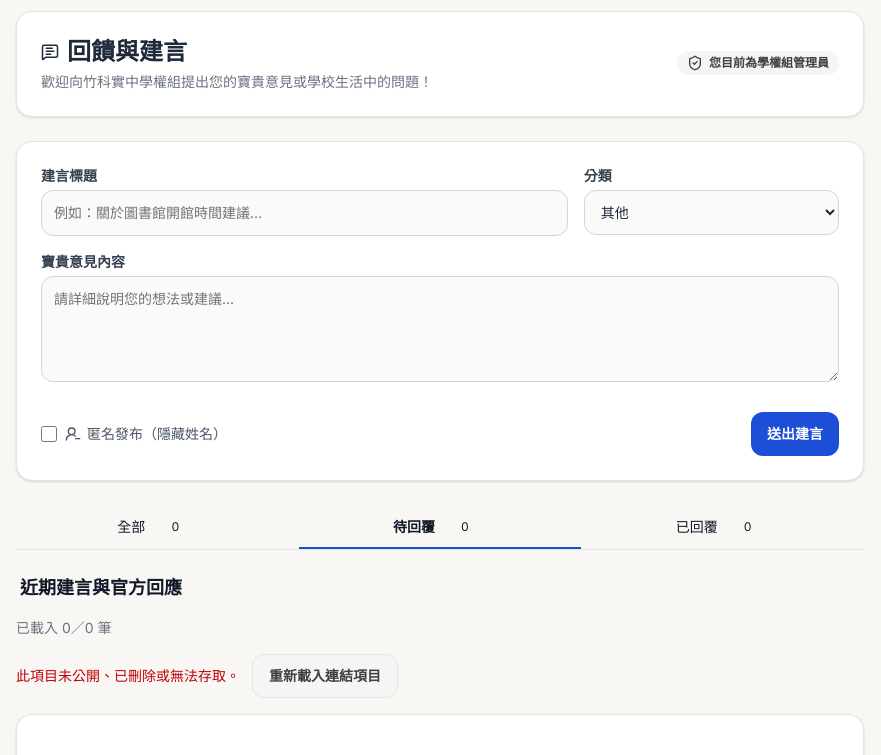
it: keeps the linked-message behavior when search navigation and 已回覆 both have no rows
This screenshot has width=881, height=755.
Expected: the message "此項目未公開、已刪除或無法存取。" is shown, 16,666 -> 240,686
Click the tab "已回覆 0".
click(697, 526)  # box 581,505 -> 864,549
(page scrolled)
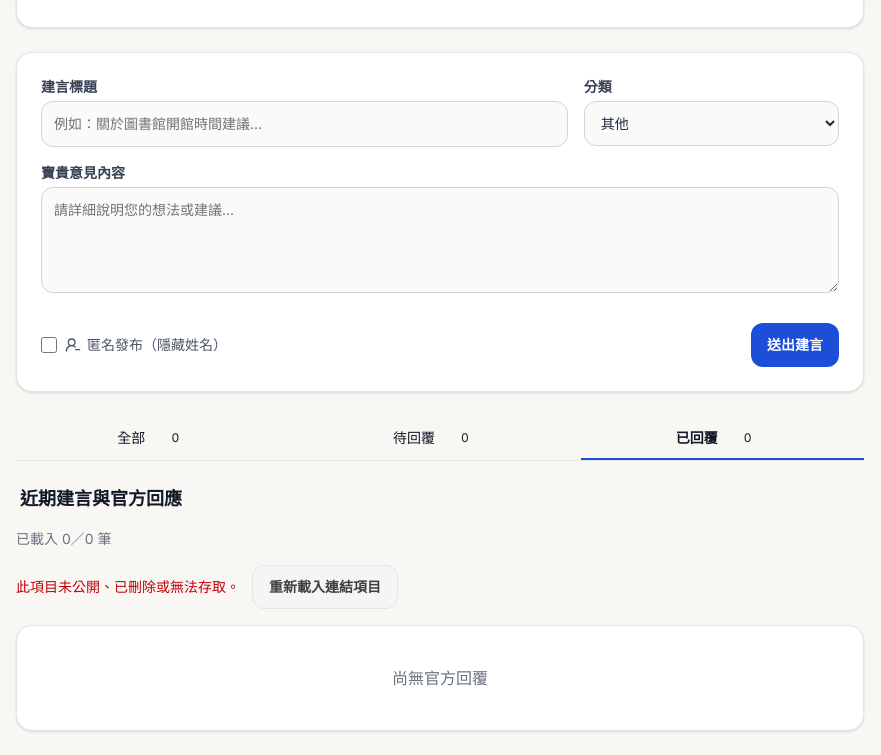
Expected: the message reads "此項目未公開、已刪除或無法存取。", 16,578 -> 240,595
Expected: the text "尚無官方回覆" is shown, 392,668 -> 488,688
